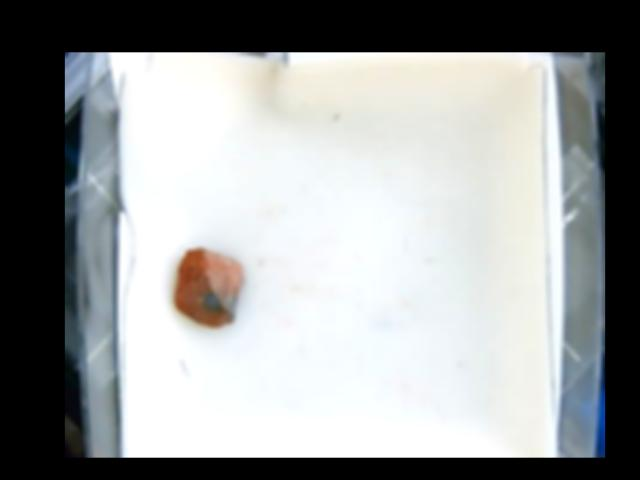Brisk: (175, 247, 243, 323)
